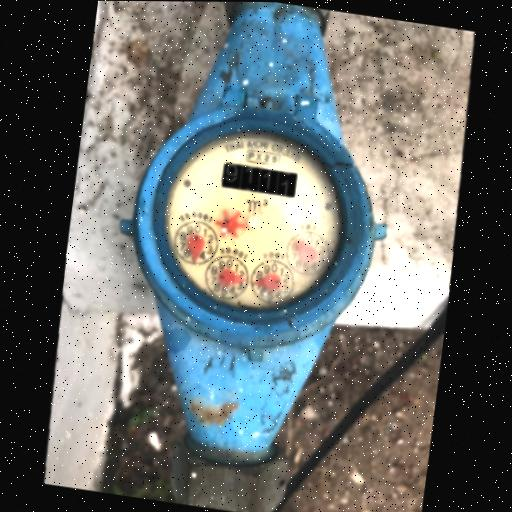1: (276, 172, 298, 197), (240, 166, 261, 192), (258, 169, 278, 194)
9: (222, 163, 243, 189)
border_water_meter_number: (220, 162, 299, 199)
